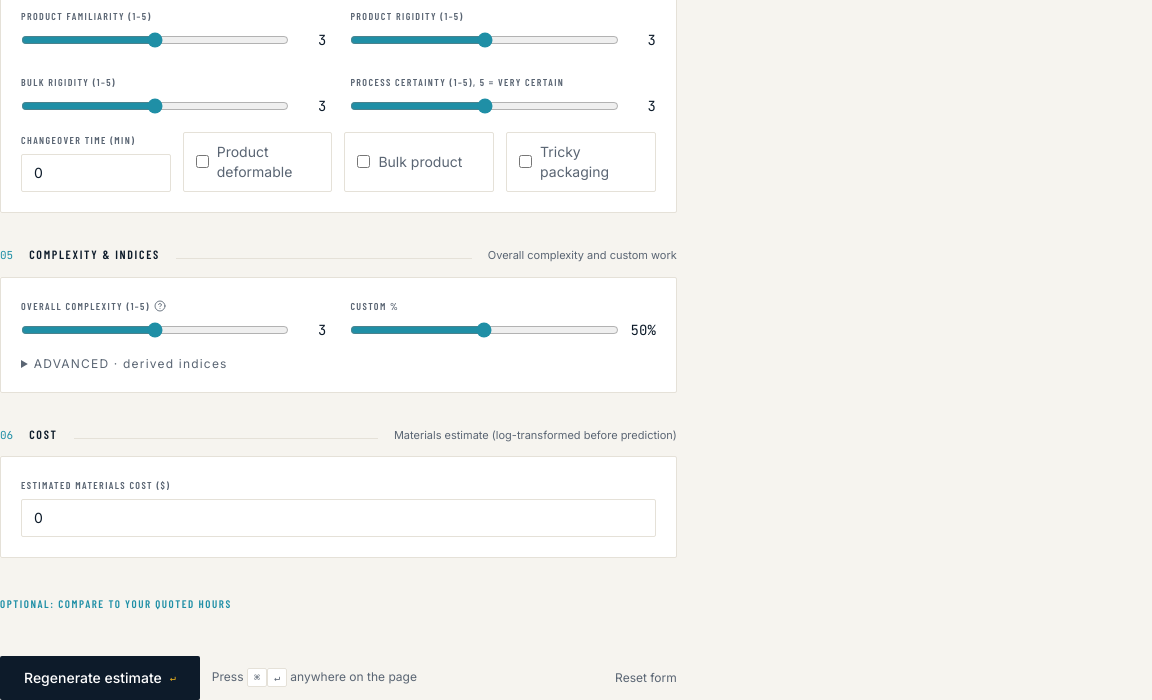
Test case: ComparisonQuote - form submit calls predictQuote('real') › renders QuoteResultPanel hero estimate after submit
(page scrolled)
Click the button "Regenerate estimate ↵".
click(100, 678)  # box [0,656,200,699]
(page scrolled)
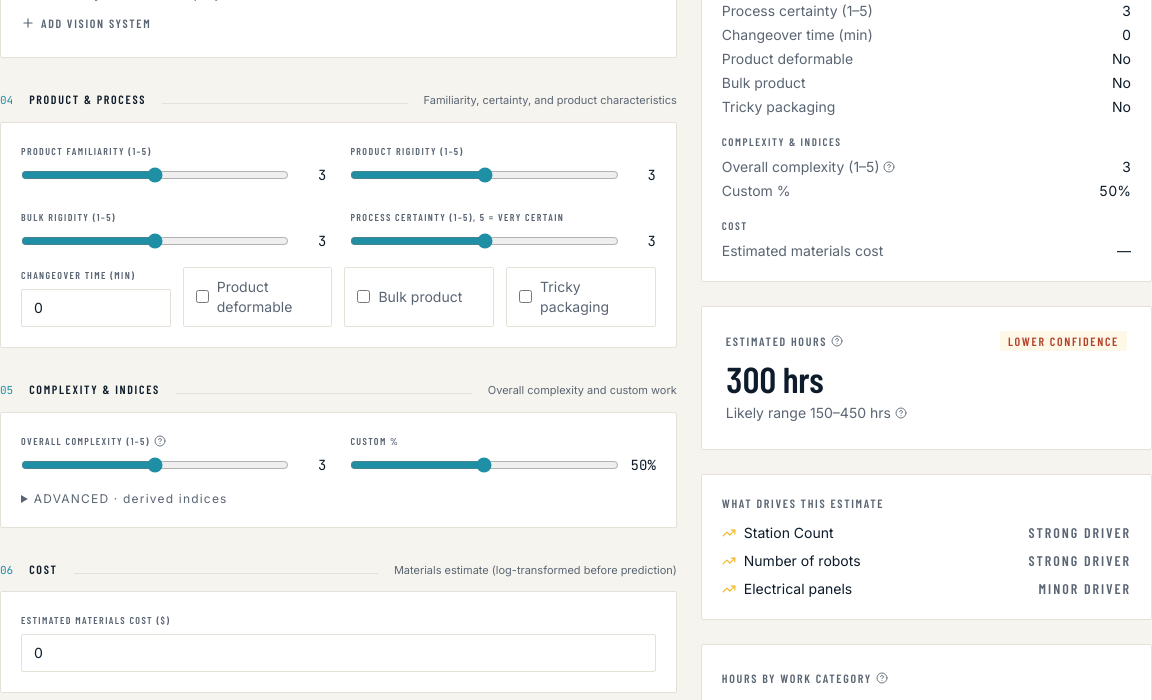
expect the text "Estimated hours" is shown: met, box [726,333,827,349]
